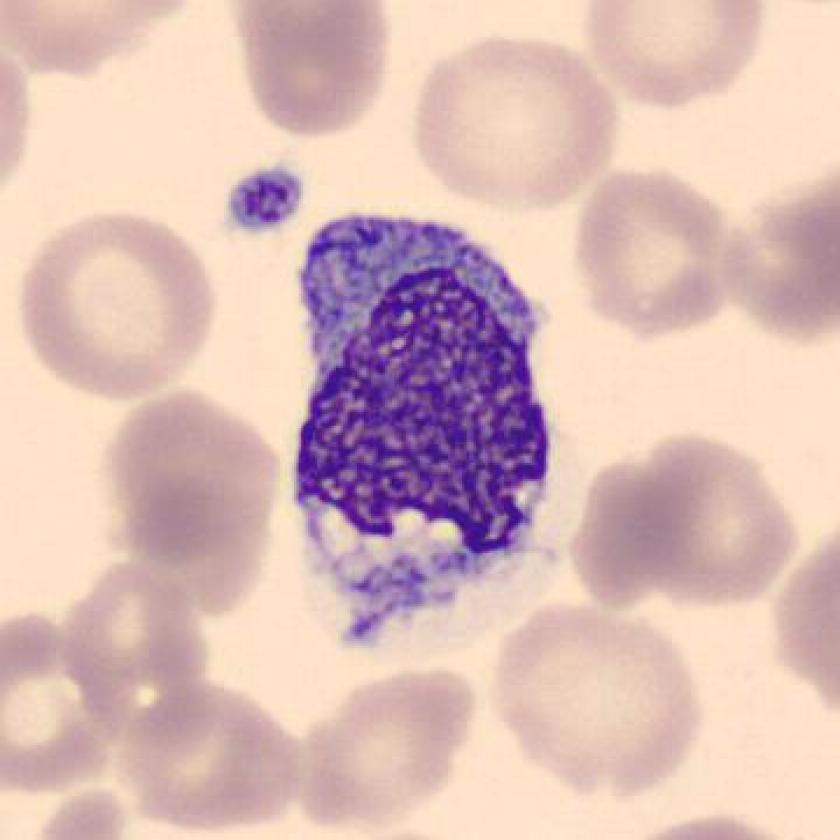monocyte: (262, 191, 580, 663)
